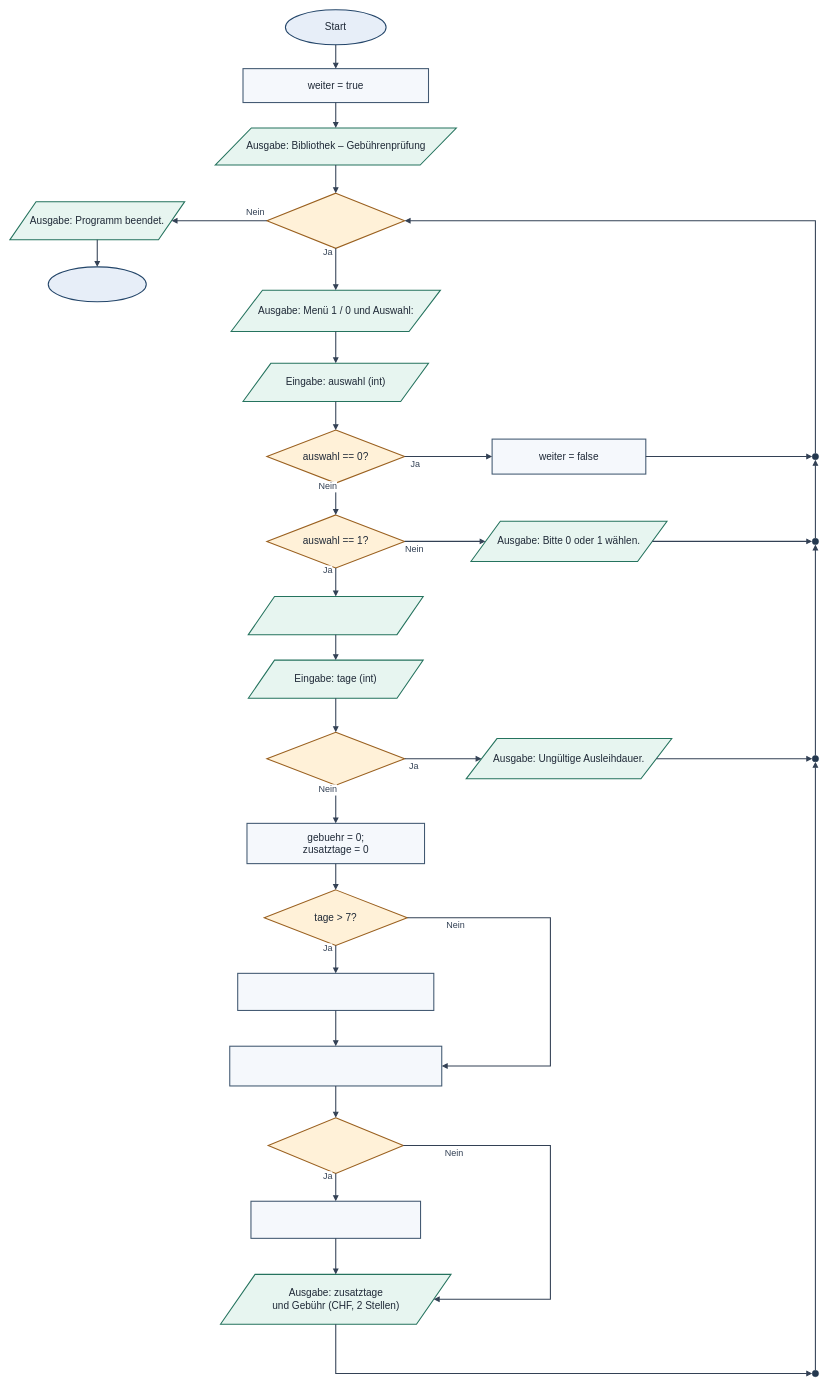
This 829x1387 diagram has some shape labels left out. Here are the shapes that lost their labels. From the top down, the box of each, then its label:
(266, 192, 405, 249): weiter == true?
(47, 266, 147, 302): Ende
(248, 596, 423, 635): Ausgabe: Ausleihtage:
(266, 731, 405, 785): tage <= 0?
(237, 973, 434, 1011): zusatztage = tage - 7
(229, 1045, 442, 1086): gebuehr = zusatztage × 0.50
(267, 1117, 404, 1174): gebuehr > 10?
(250, 1200, 421, 1239): gebuehr = 10
